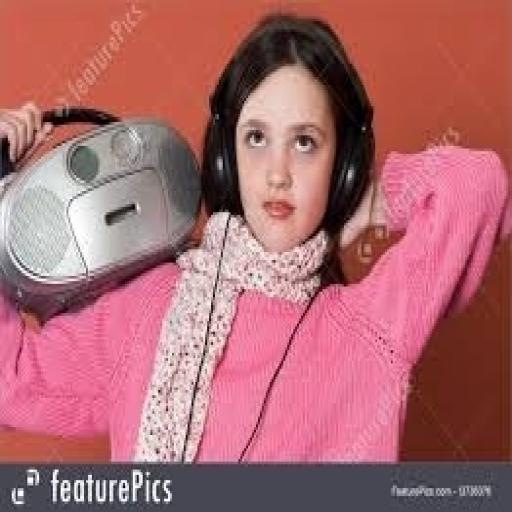listening_to_music: (0, 11, 510, 464)
